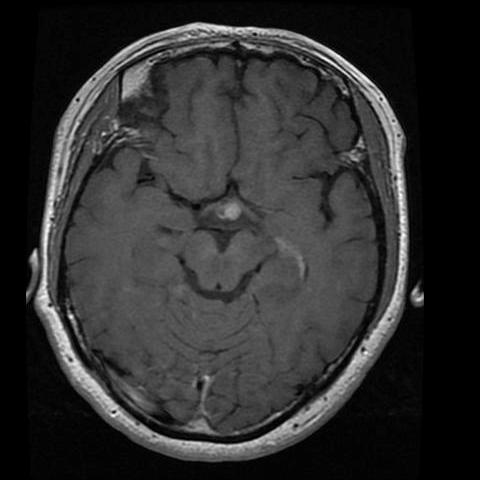Tumour-Pituitary: (219, 201, 245, 225)
